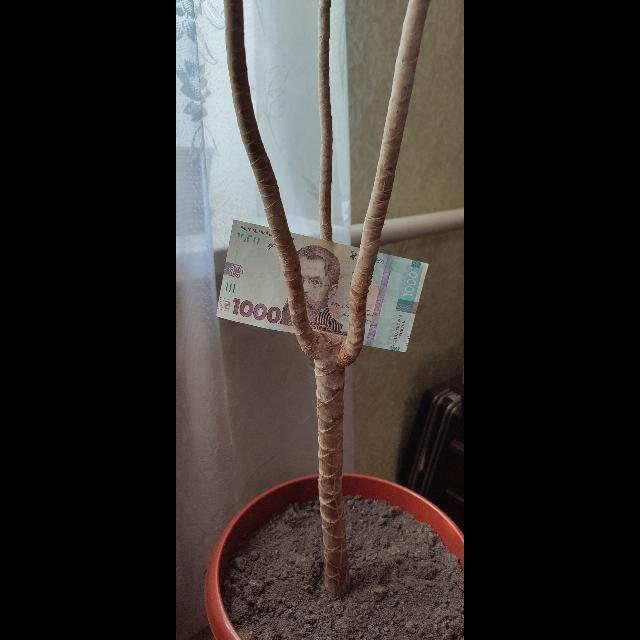1000uah: (215, 224, 425, 352)
